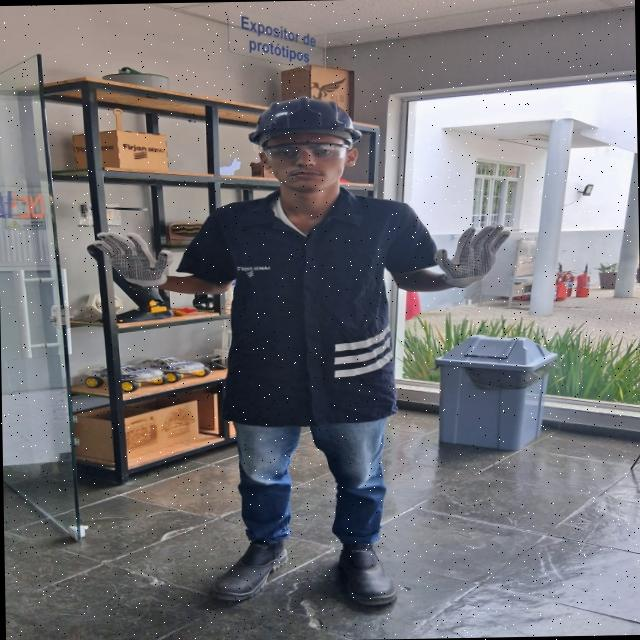BOTA: (203, 536, 295, 602), (336, 541, 401, 609)
CAPACETE: (246, 96, 367, 143)
JALECO: (171, 187, 444, 427)
LUVA: (427, 221, 517, 292), (82, 230, 178, 287)
OCULOS: (259, 142, 356, 163)
